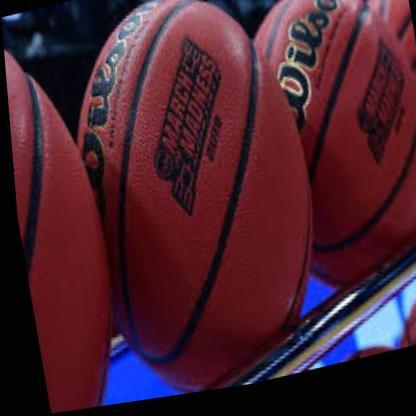basketball: (53, 0, 333, 410), (230, 0, 416, 313), (2, 13, 128, 416)
